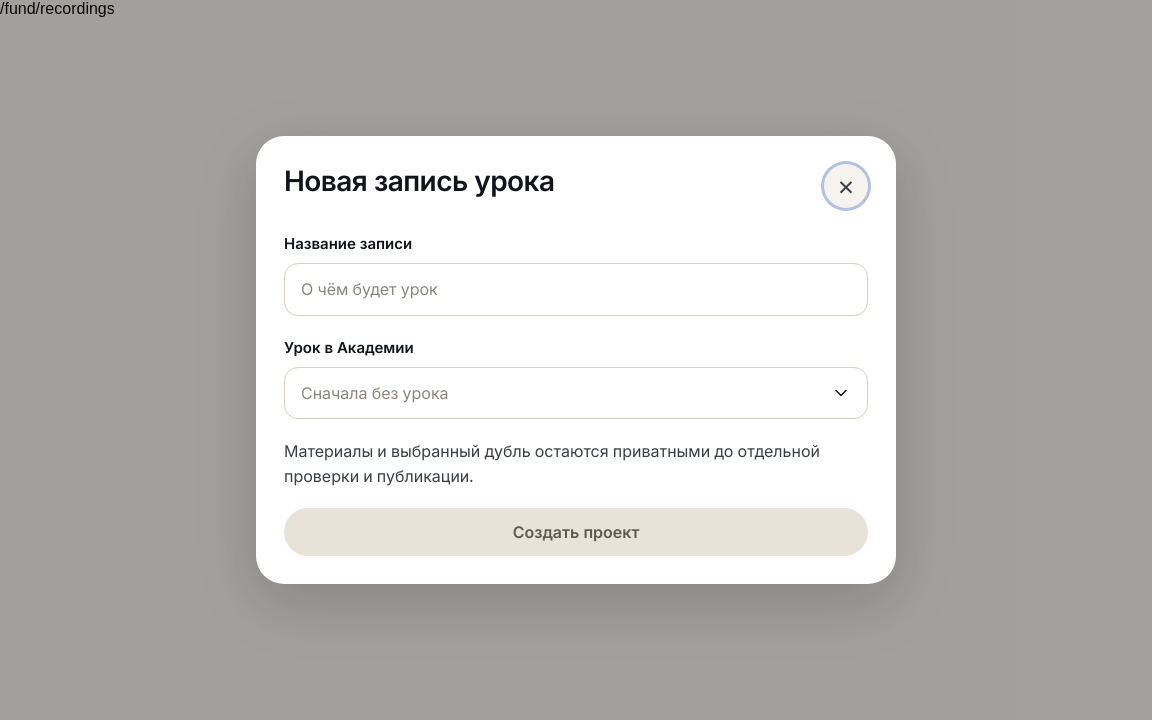
Test case: creates a project with an actual lesson selected through the custom picker and opens its studio
The width and height of the screenshot is (1152, 720).
Expected: the dropdown named "Урок в Академии" is enabled, [284,367,868,419]
Type "Мой урок" into the field labelled "Название записи" at coordinates (576, 289), box [284,263,868,316]
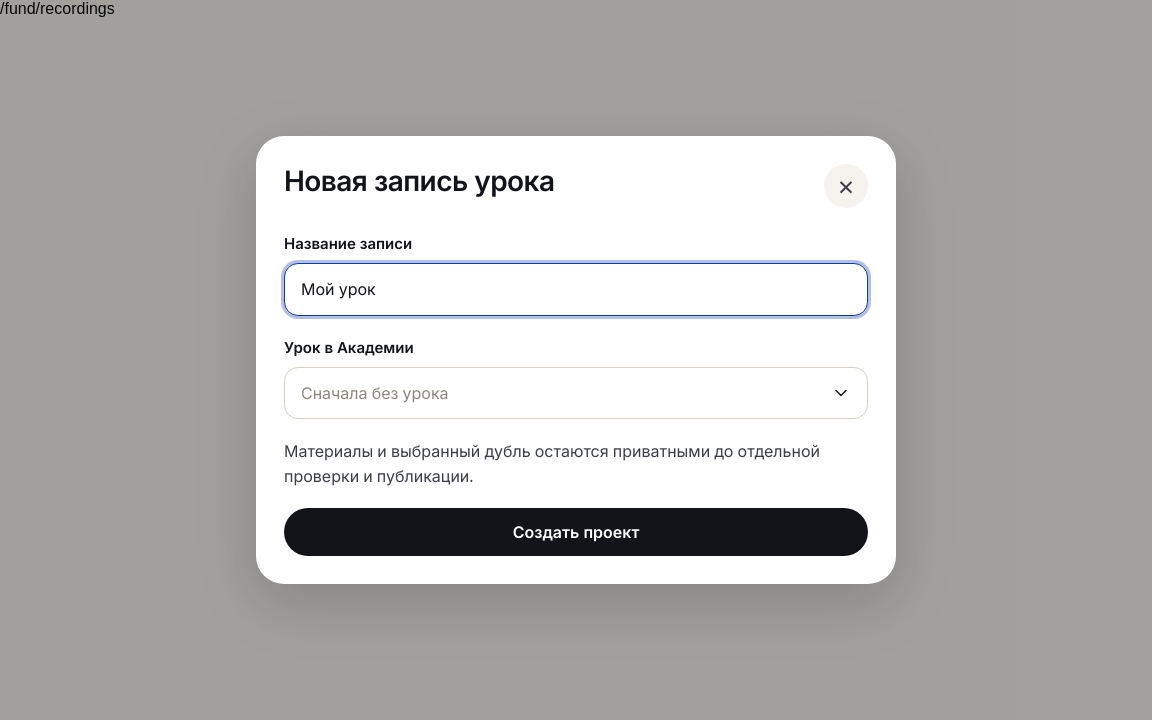
Click the dropdown named "Урок в Академии" at coordinates (375, 393), box [284,367,868,419]
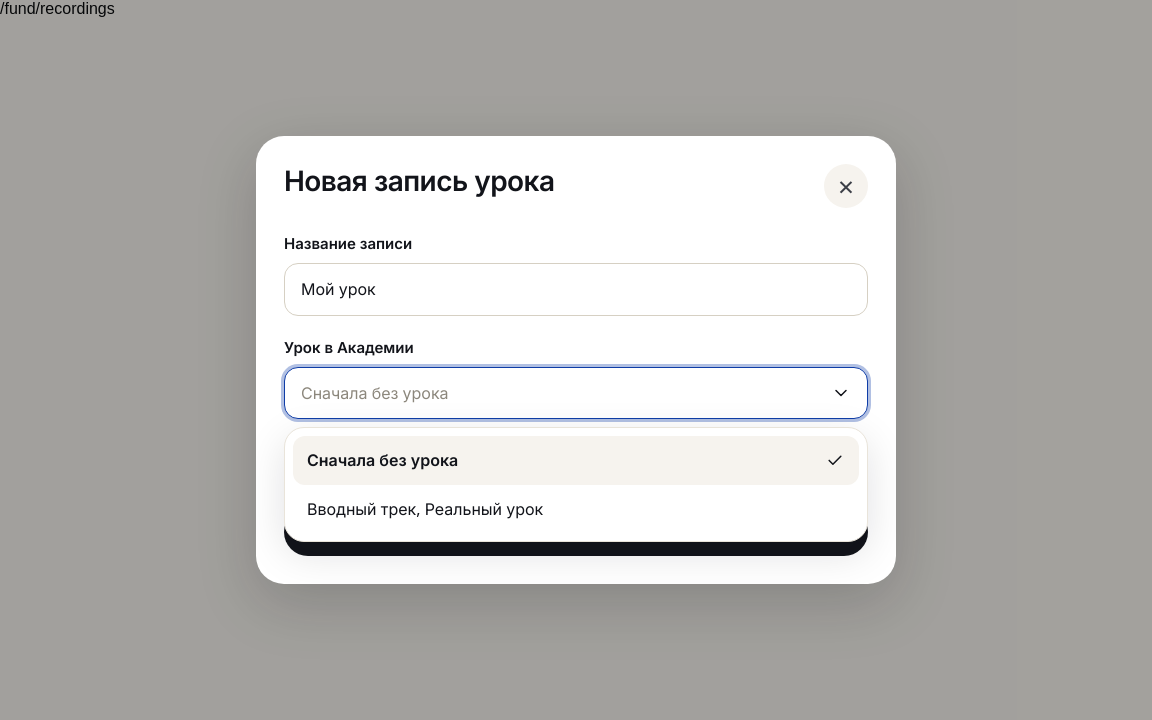
Click the option "Вводный трек, Реальный урок" at coordinates (425, 509), box [307,498,543,520]
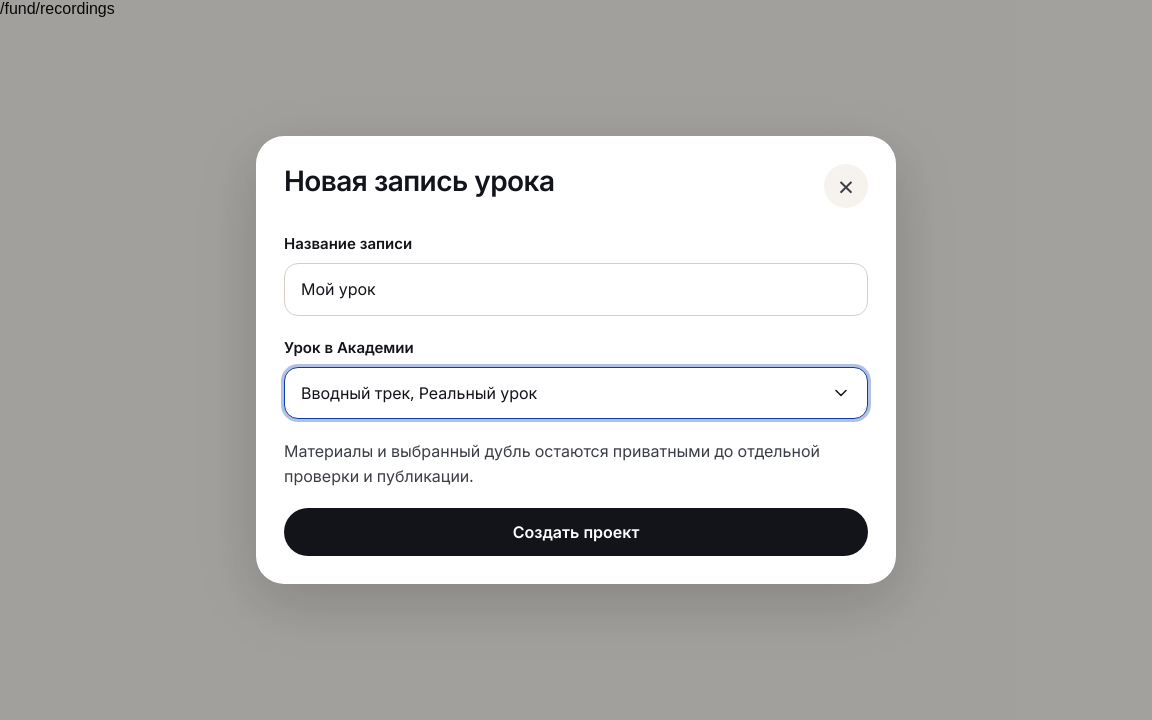
Click the button "Создать проект" at coordinates (576, 532), box [284,508,868,556]
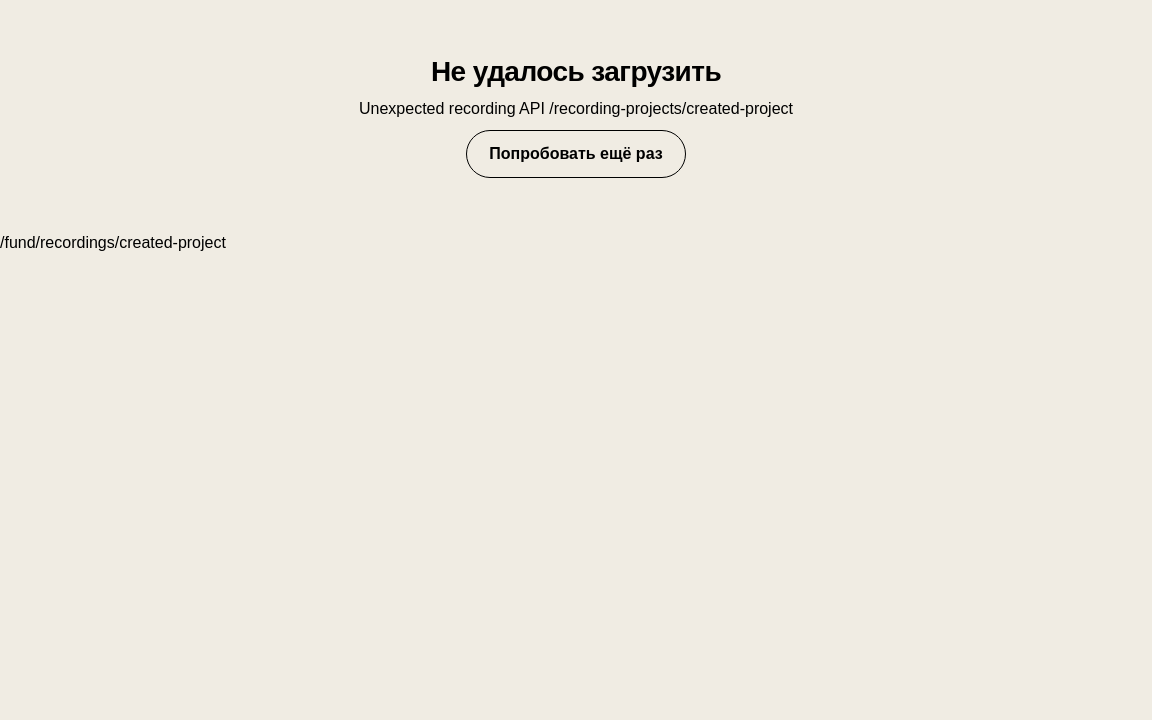
Now the text with test id "path" reads "/fund/recordings/created-project", box [0,234,226,251]
